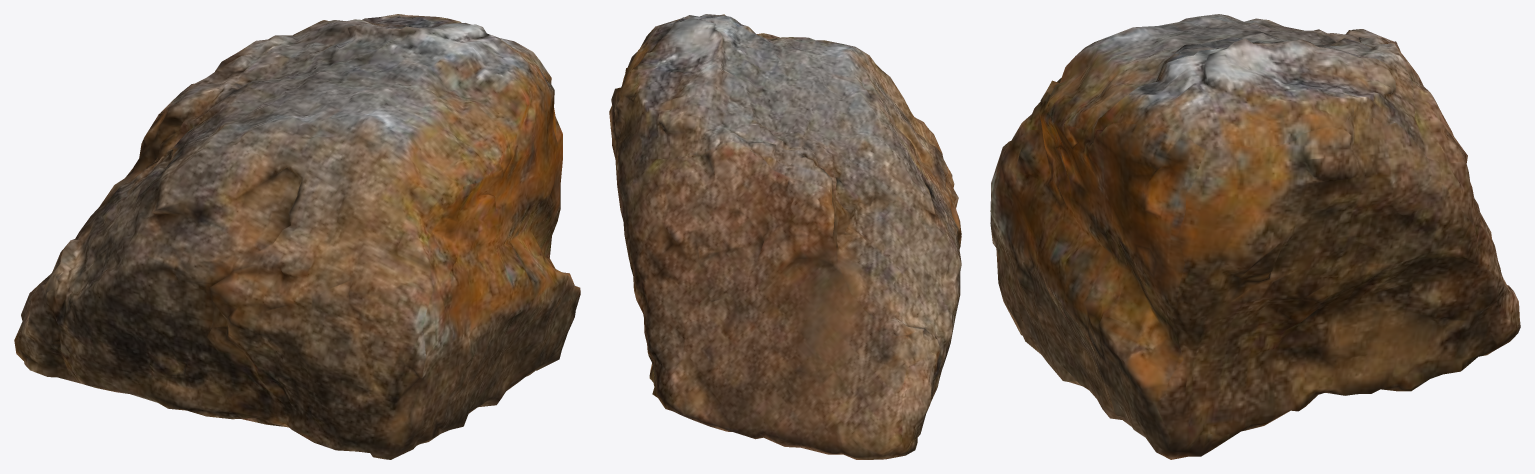
File: granito_a.glb
The picture shows the model from 3 angles, left to right: view 1: azimuth 30°, elevation 25°; view 2: azimuth 150°, elevation 25°; view 3: azimuth 270°, elevation 25°; orthographic projection. The views are drawn at different scales.
Visible parts, largest first — view 1: boulder_04; view 2: boulder_04; view 3: boulder_04.
Boxes of the visible parts, bbox=[...] form: boulder_04: bbox=[14, 14, 580, 459]; boulder_04: bbox=[609, 14, 961, 459]; boulder_04: bbox=[990, 14, 1520, 459].
Size of the model in its own units: 2.52 by 1.9 by 2.48.
Materials: 1 (1 with a texture image).
